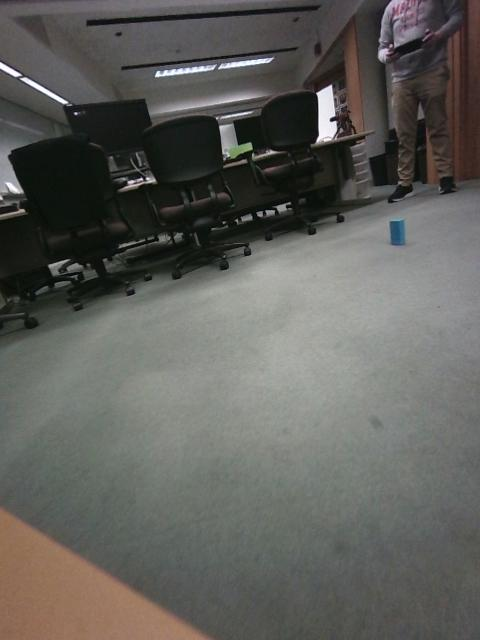block: (210, 337, 272, 376)
